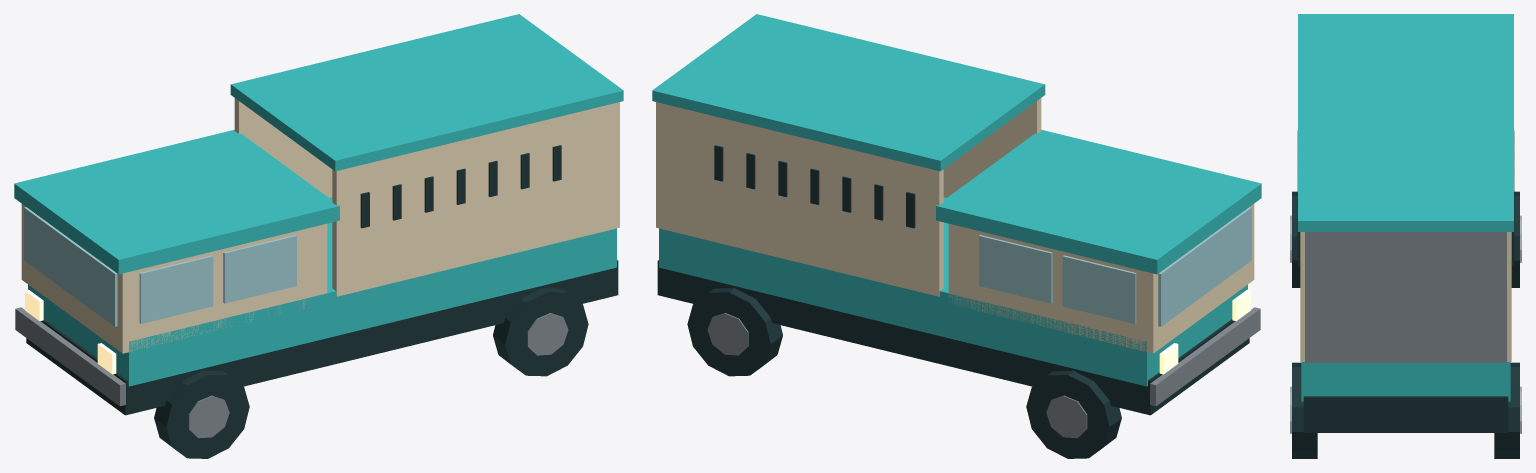
The model's file is animal_transport_truck.fbx.
3 views of the same model, side by side, from view 1: azimuth 30°, elevation 25°; view 2: azimuth 150°, elevation 25°; view 3: azimuth 270°, elevation 25° (orthographic). The views are drawn at different scales.
Parts seen in each view (by area): view 1: animal_transport_truck; view 2: animal_transport_truck; view 3: animal_transport_truck.
Boxes of the visible parts, bbox=[...] form: animal_transport_truck: bbox=[14, 14, 623, 458]; animal_transport_truck: bbox=[652, 14, 1261, 458]; animal_transport_truck: bbox=[1290, 14, 1521, 458].
Bounding box in the file's own units: 6 × 3 × 2.3.
